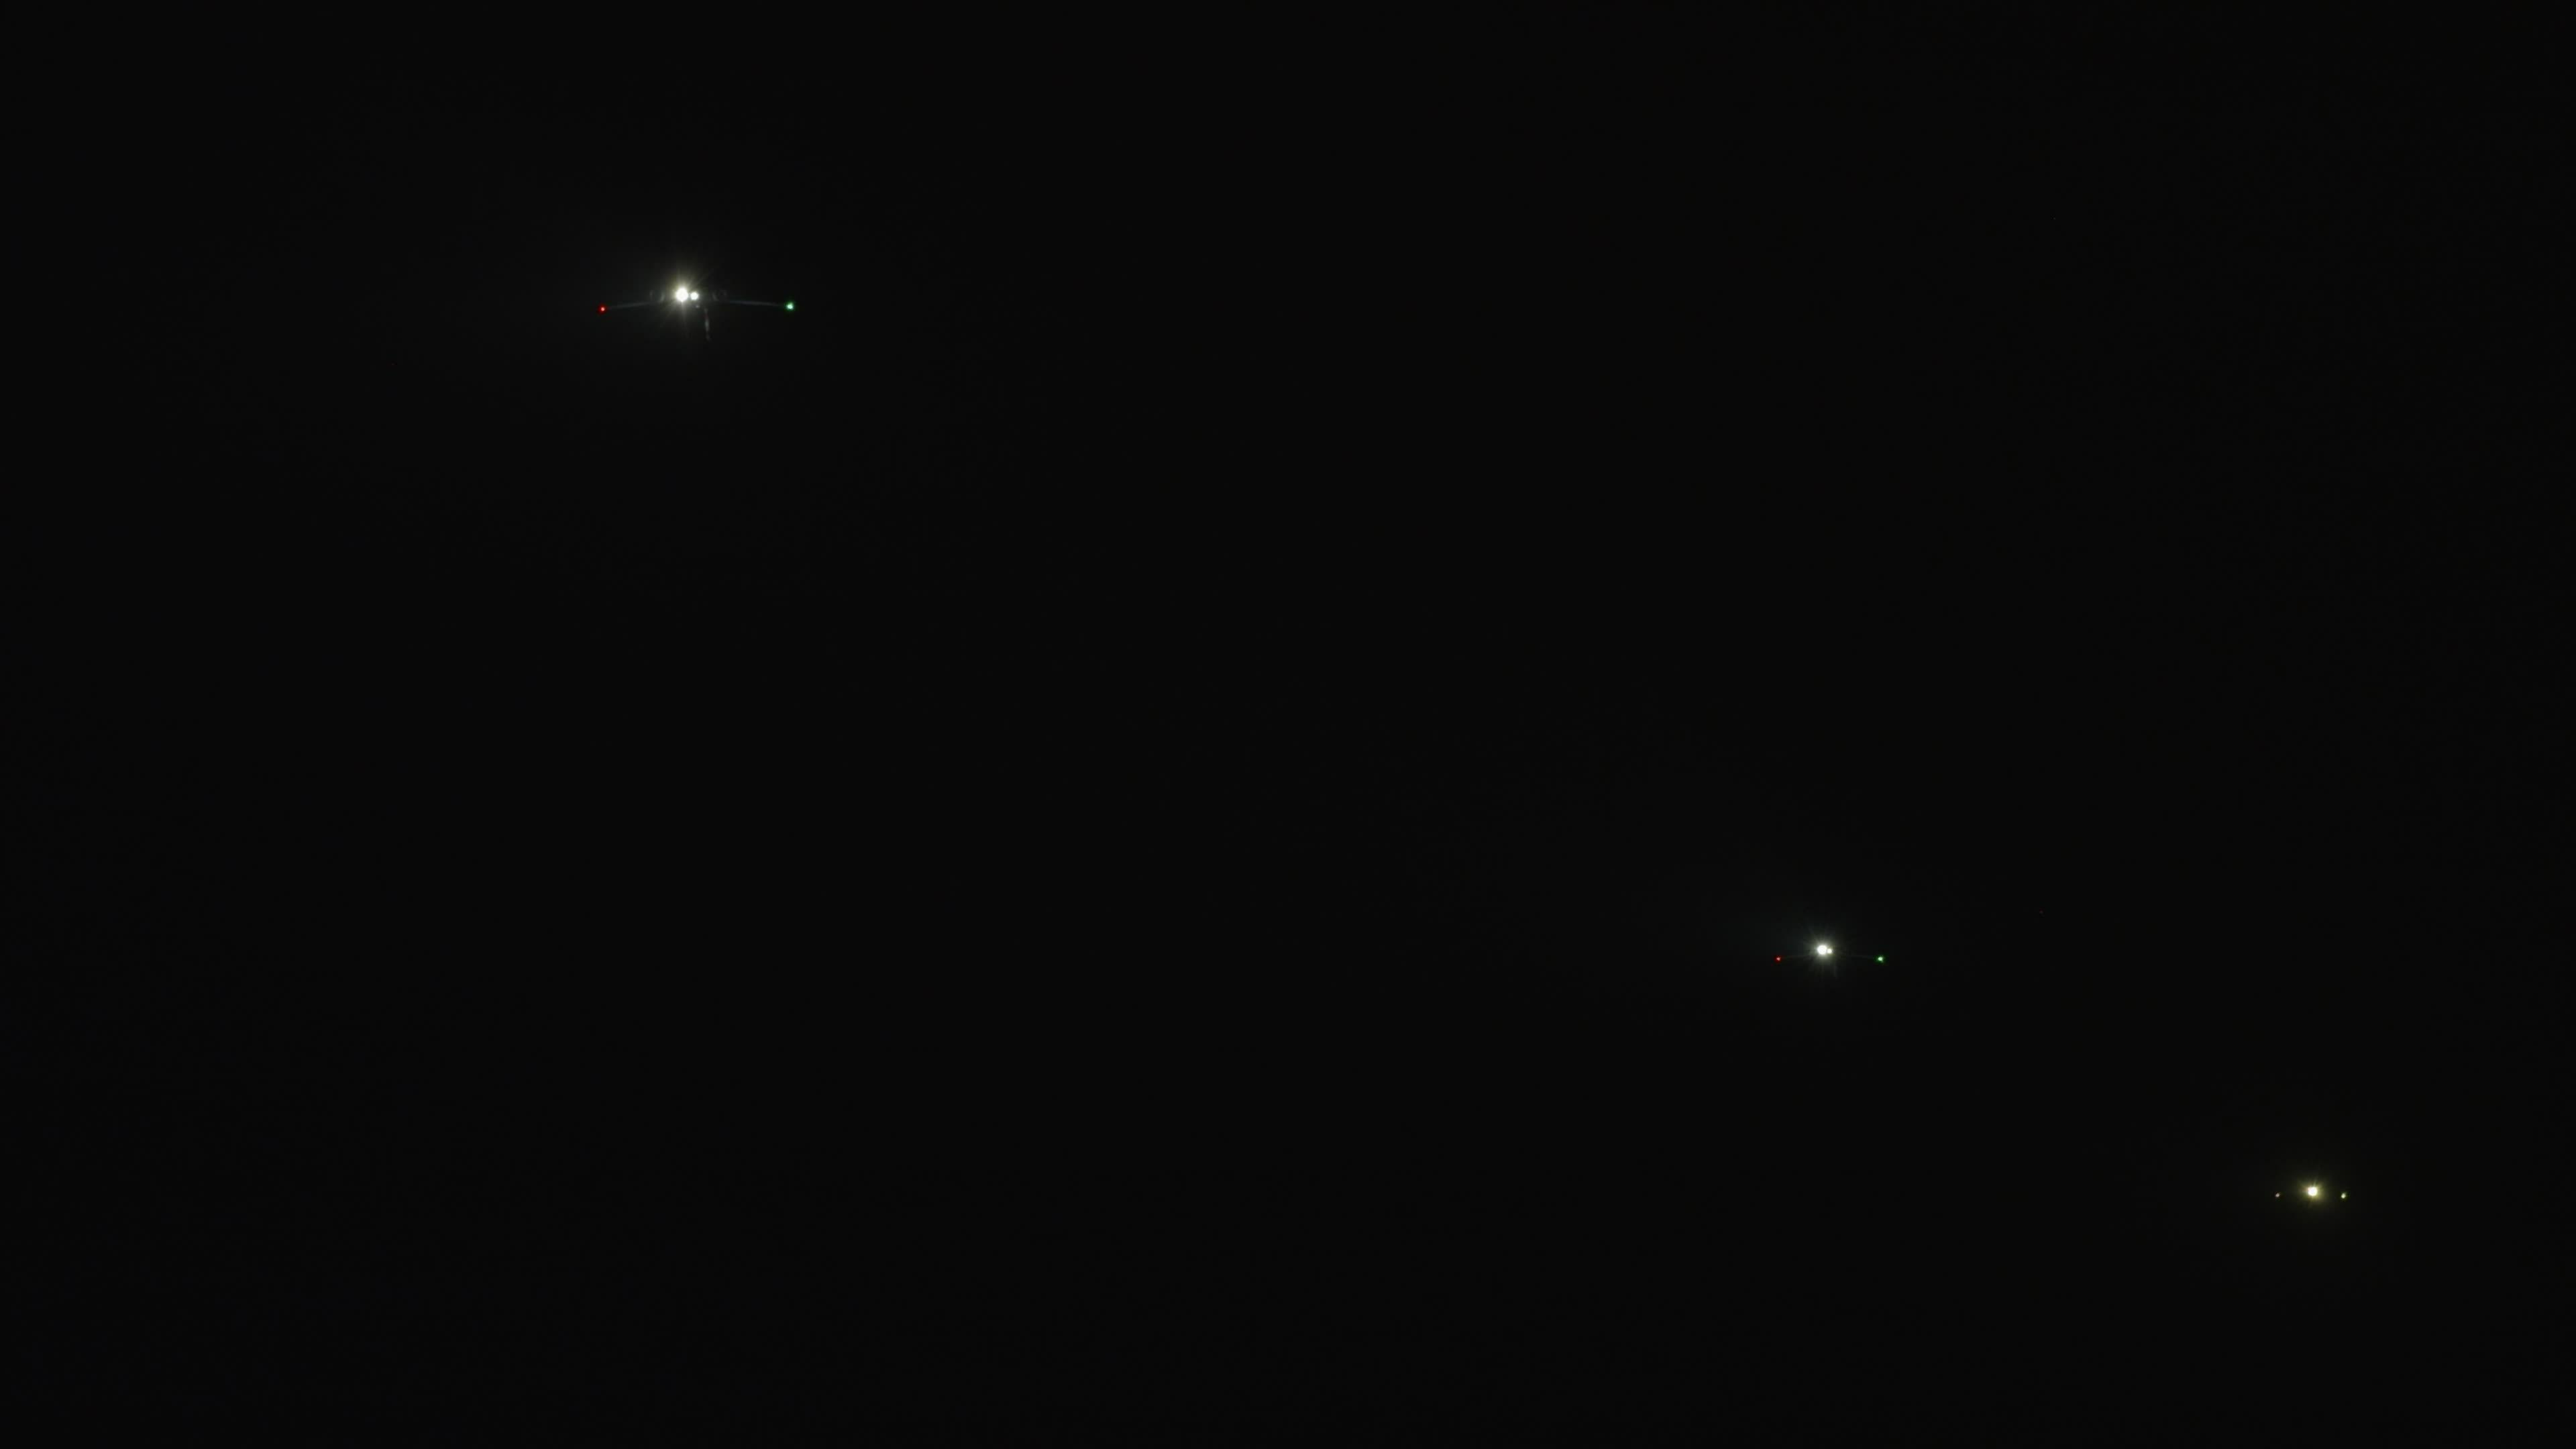Plane: (508, 251, 878, 359), (1720, 922, 1941, 989), (2236, 1161, 2396, 1223)
